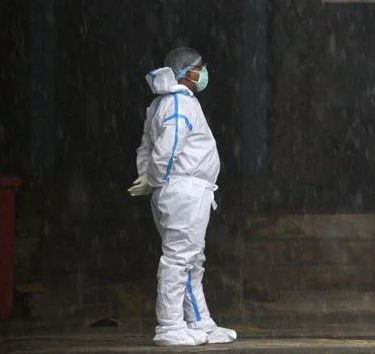Coverall: (133, 47, 225, 328)
Gloves: (125, 176, 157, 201)
with_mask: (186, 56, 209, 93)
